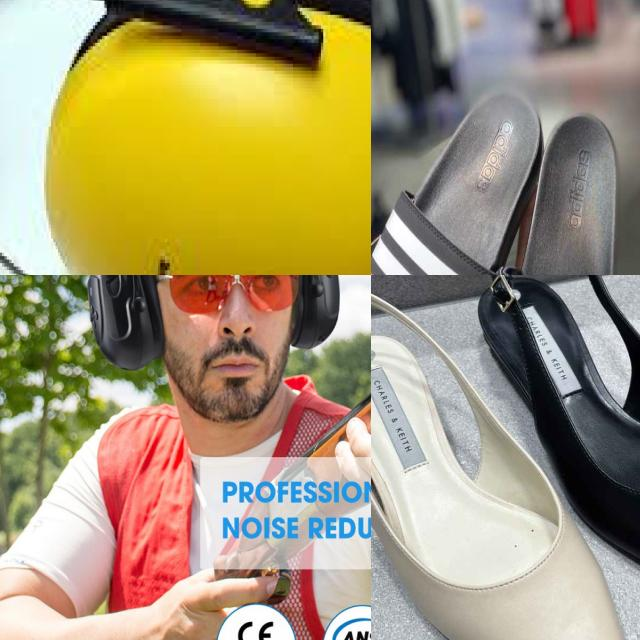Ear-protection: (36, 0, 371, 275), (82, 275, 360, 454), (203, 0, 371, 166)
Sandals: (371, 275, 640, 640), (459, 275, 640, 640), (371, 59, 619, 275)
